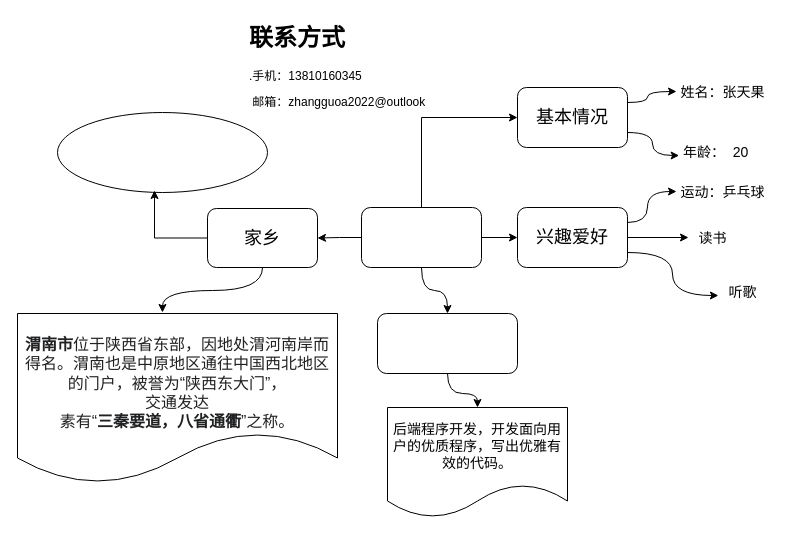
The diagram is 795 pixels wide and 535 high, and some of its shapes have lost their labels. Here are the shapes that lost their labels. From the top down, the centre of each, then its label:
At point (162, 152): "名称： 陕西省渭南市".
At point (421, 237): "自我介绍".
At point (447, 343): "期许职业方向".
